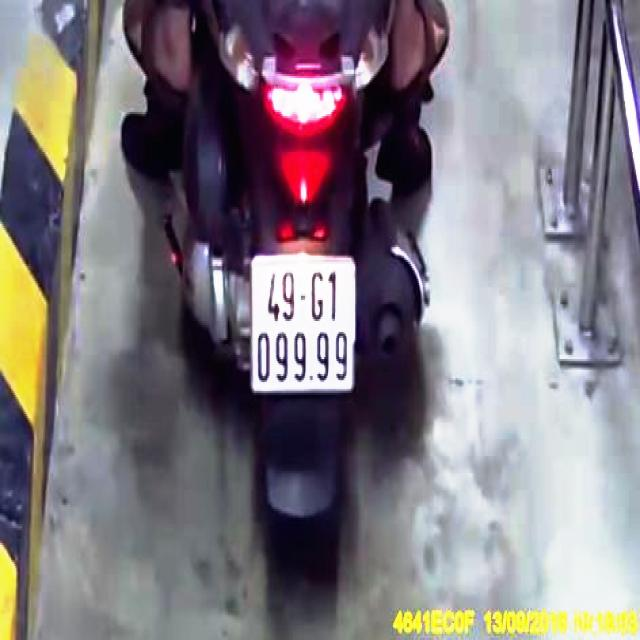license_plate: (255, 256, 357, 391)
